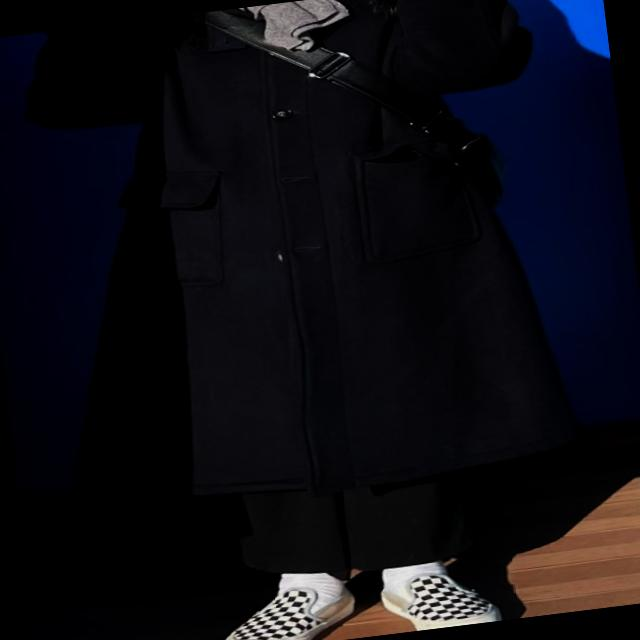coat: (21, 0, 587, 524)
slacks: (220, 458, 483, 590)
